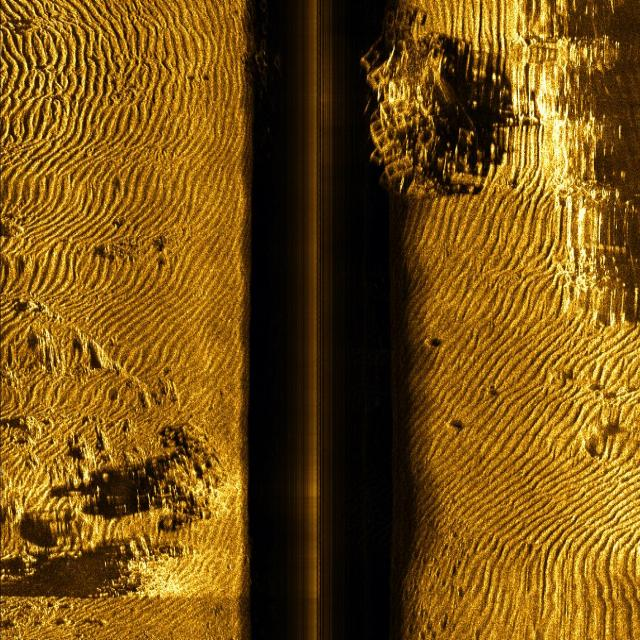artificial reef: (364, 35, 487, 195), (243, 0, 288, 95)
